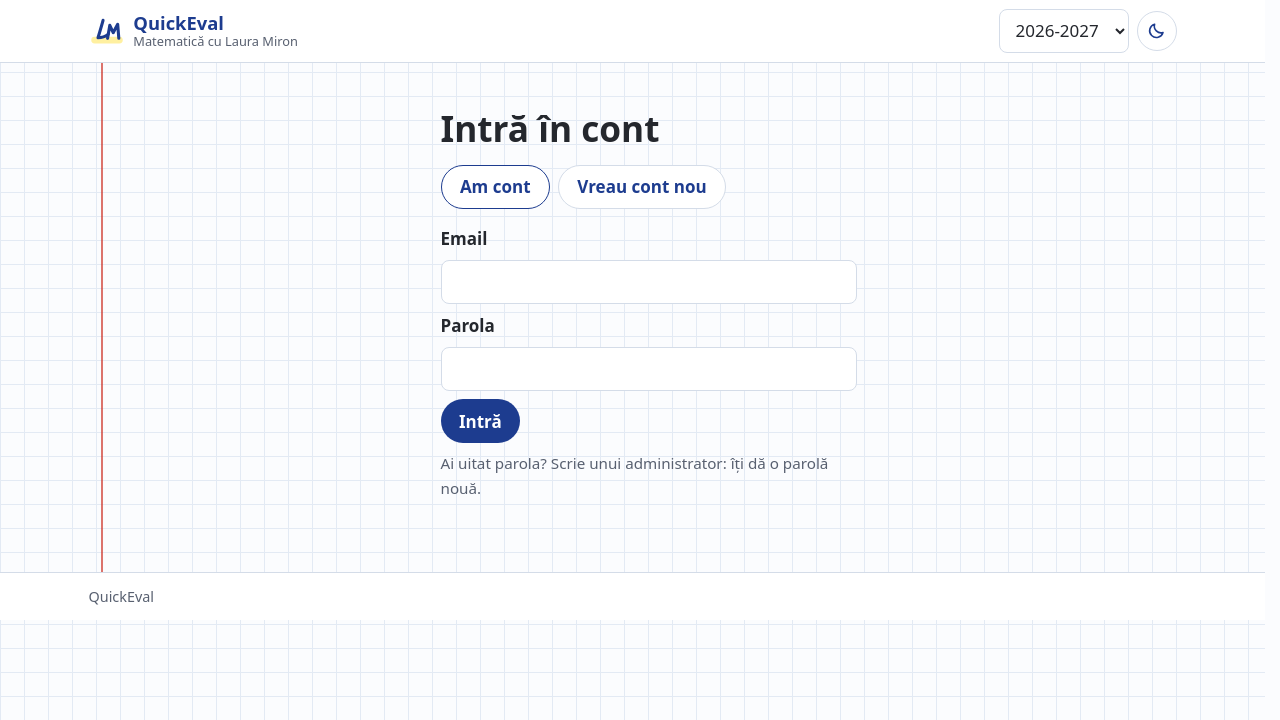
Test: the login form › shows the reason a login is refused
This screenshot has width=1280, height=720.
Type "nou@example.com" into the field labelled "Email" at (648, 282), box [440,260,856,304]
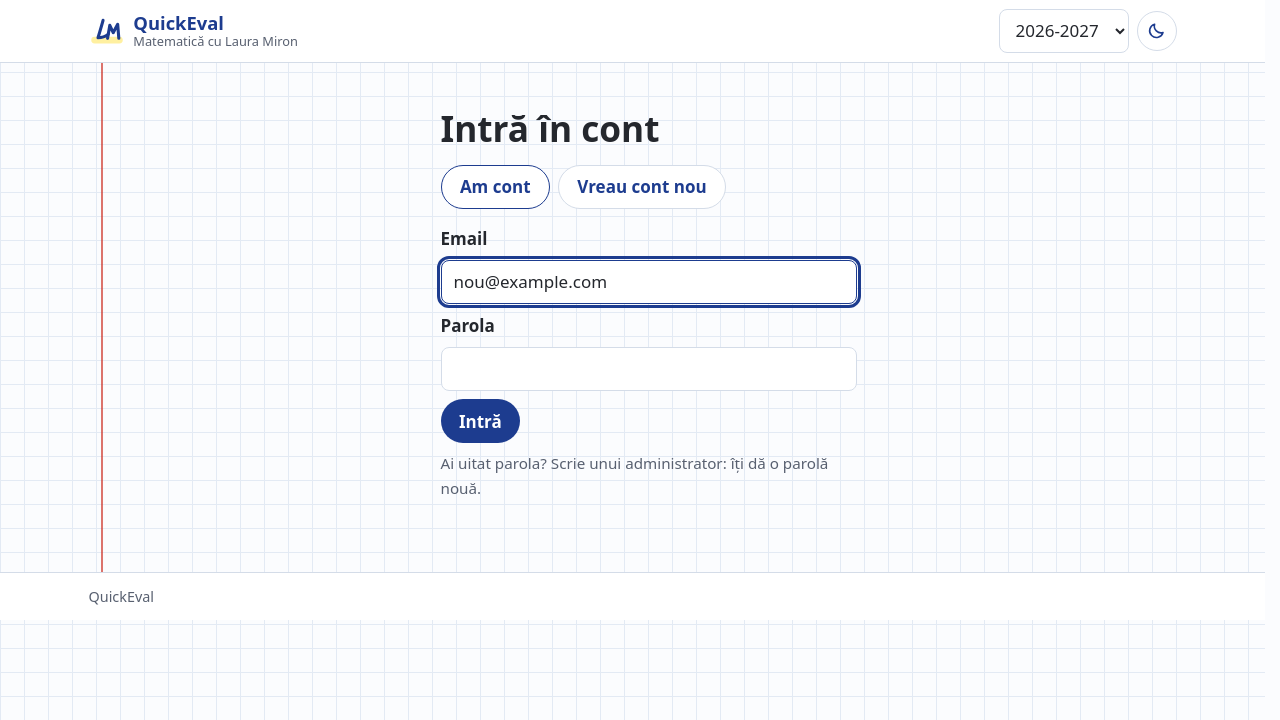
Type "parola-buna" into the password field labelled "Parola" at (648, 369), box [440,347,856,391]
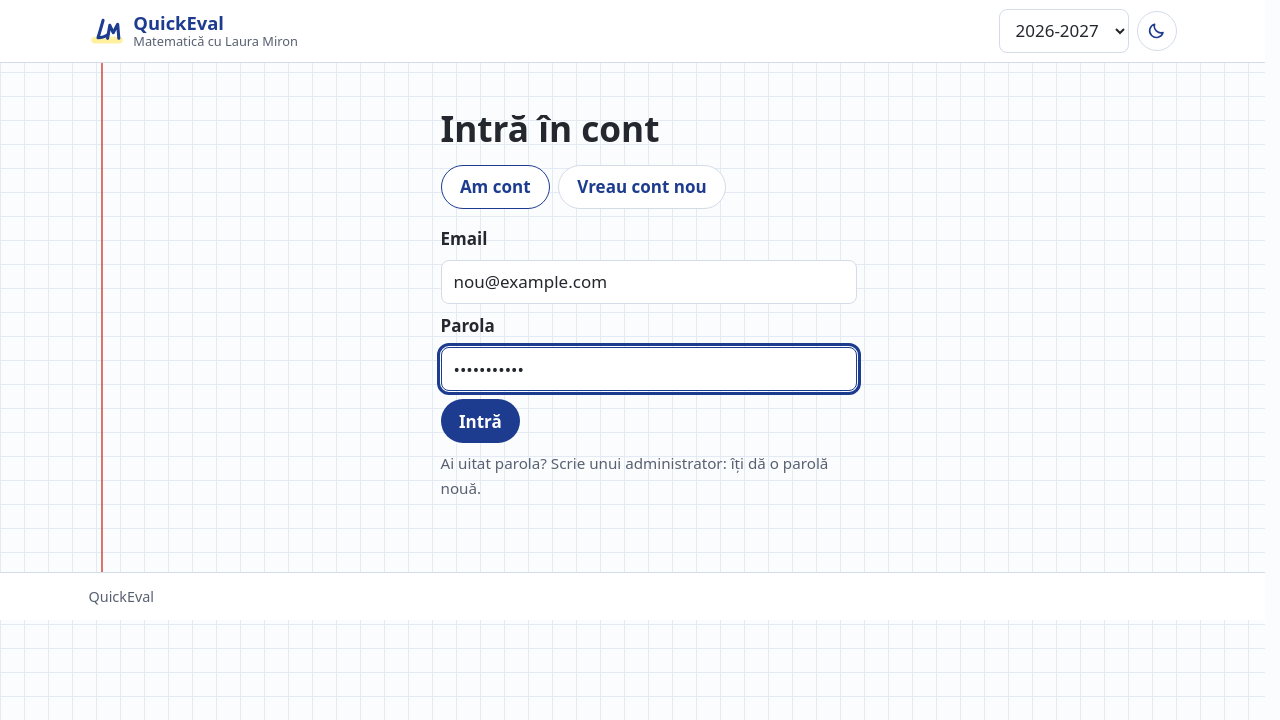
Click the button "Intră" at (480, 421), box [440,399,520,443]
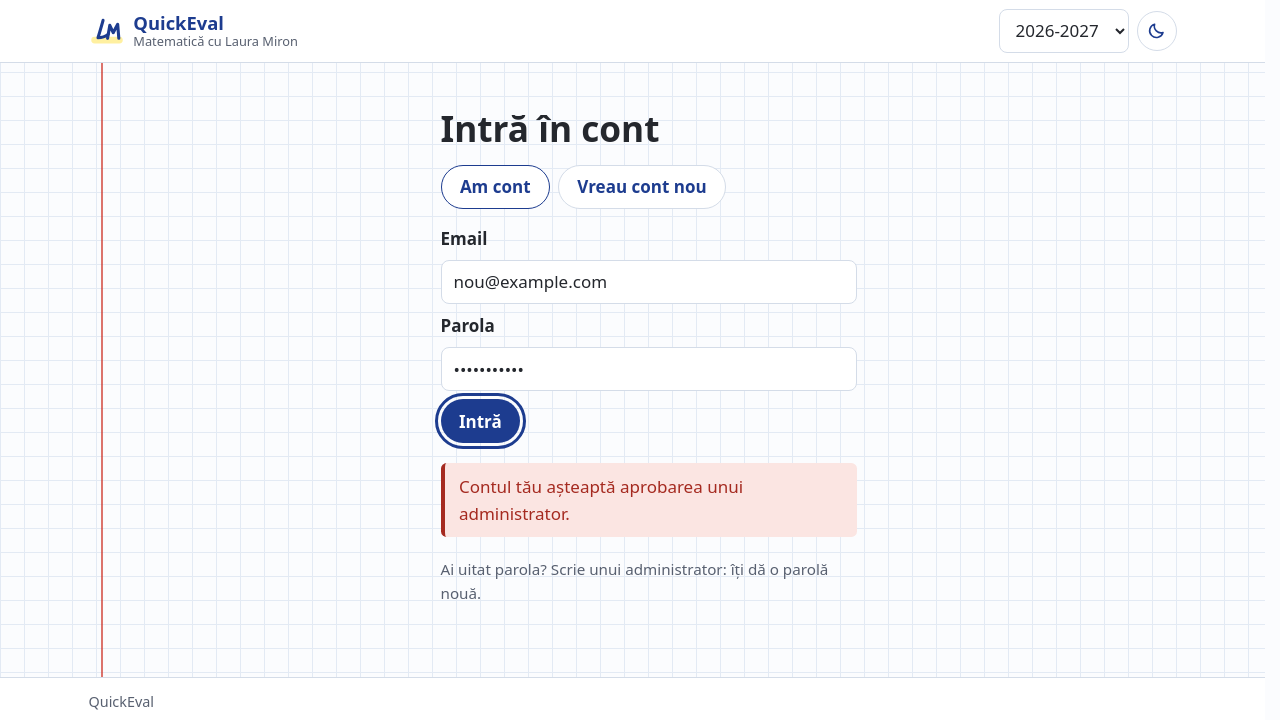
Expected: the message reads "Contul tău așteaptă aprobarea unui administrator.", [459,475,743,525]
